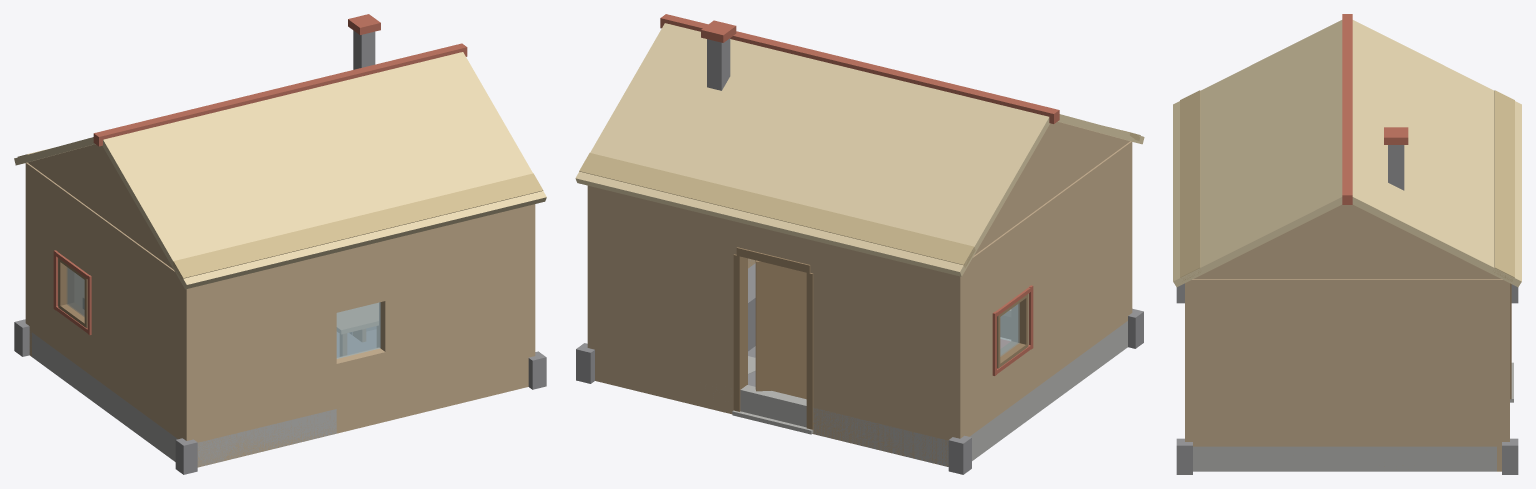
Rendered from 18-Casas_casa_choza_ampliada.glb.
3 views of the same model, side by side, from view 1: azimuth 30°, elevation 25°; view 2: azimuth 150°, elevation 25°; view 3: azimuth 270°, elevation 25° (orthographic). The views are drawn at different scales.
Visible parts, largest first — view 1: SM_Techo_Dos_Aguas, SM_Muro_B, SM_Muro_L, SM_Zocalo_Perimetro, SM_Ventana_Vidrio, SM_Ventana_Marco, SM_Mueble_Cocina_Lena, SM_Mueble_Mesa_Banco, SM_Muro_R, SM_Piso_Tierra; view 2: SM_Techo_Dos_Aguas, SM_Muro_F, SM_Muro_L, SM_Zocalo_Perimetro, SM_Puerta_Hoja, SM_Puerta_Marco, SM_Ventana_Marco, SM_Mueble_Cocina_Lena, SM_Muro_R, SM_Muro_B, SM_Ventana_Vidrio; view 3: SM_Techo_Dos_Aguas, SM_Muro_R, SM_Zocalo_Perimetro, SM_Muro_F, SM_Muro_B, SM_Mueble_Cocina_Lena.
Part boxes in pixels (x1,y1,x2,y2): SM_Techo_Dos_Aguas: (14, 43, 546, 289); SM_Muro_B: (180, 204, 535, 467); SM_Muro_L: (25, 162, 197, 441); SM_Zocalo_Perimetro: (14, 319, 546, 474); SM_Ventana_Vidrio: (66, 267, 380, 358); SM_Ventana_Marco: (53, 250, 91, 335); SM_Mueble_Cocina_Lena: (348, 14, 380, 334); SM_Mueble_Mesa_Banco: (337, 303, 378, 356); SM_Muro_R: (524, 206, 531, 344); SM_Piso_Tierra: (337, 329, 376, 357); SM_Techo_Dos_Aguas: (575, 14, 1144, 276); SM_Muro_F: (587, 186, 966, 466); SM_Muro_L: (948, 142, 1130, 438); SM_Zocalo_Perimetro: (576, 260, 1143, 474); SM_Puerta_Hoja: (755, 260, 806, 399); SM_Puerta_Marco: (732, 247, 813, 434); SM_Ventana_Marco: (992, 285, 1033, 375); SM_Mueble_Cocina_Lena: (701, 20, 755, 351); SM_Muro_R: (587, 186, 755, 381); SM_Muro_B: (1125, 141, 1132, 322); SM_Ventana_Vidrio: (1000, 303, 1019, 356); SM_Techo_Dos_Aguas: (1173, 14, 1521, 287); SM_Muro_R: (1185, 279, 1502, 466); SM_Zocalo_Perimetro: (1176, 283, 1518, 474); SM_Muro_F: (1497, 280, 1509, 471); SM_Muro_B: (1185, 279, 1197, 446); SM_Mueble_Cocina_Lena: (1384, 127, 1408, 190).
Bounding box in the file's own units: 5.28 × 4.16 × 4.29.
